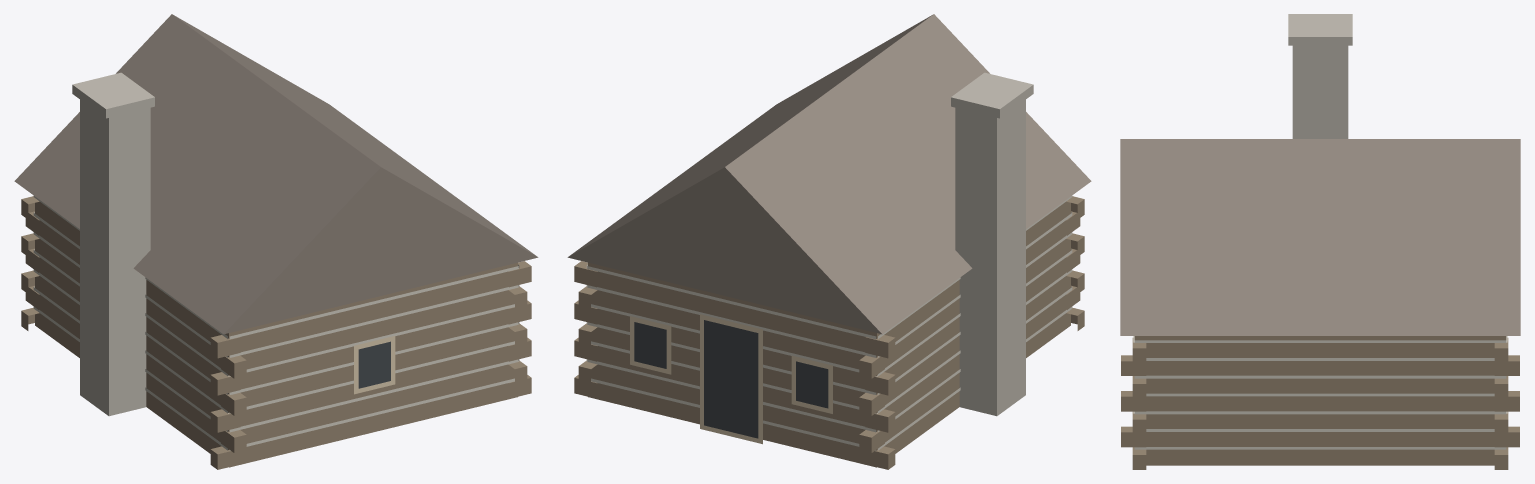
Rendered from recon_1835_blk_south_water_wells_d1_05__inferred_1835.glb.
3 views of the same model, side by side, from view 1: azimuth 30°, elevation 25°; view 2: azimuth 150°, elevation 25°; view 3: azimuth 270°, elevation 25° (orthographic). The views are drawn at different scales.
Visible parts, largest first — view 1: recon_1835_blk_south_water_wells_d1_05__inferred_1835; view 2: recon_1835_blk_south_water_wells_d1_05__inferred_1835; view 3: recon_1835_blk_south_water_wells_d1_05__inferred_1835.
Boxes of the visible parts, <box> form: recon_1835_blk_south_water_wells_d1_05__inferred_1835: <box>14,14,538,469</box>; recon_1835_blk_south_water_wells_d1_05__inferred_1835: <box>567,14,1091,469</box>; recon_1835_blk_south_water_wells_d1_05__inferred_1835: <box>1120,14,1520,469</box>.
Bounding box in the file's own units: 6.6 × 5.74 × 6.94.
